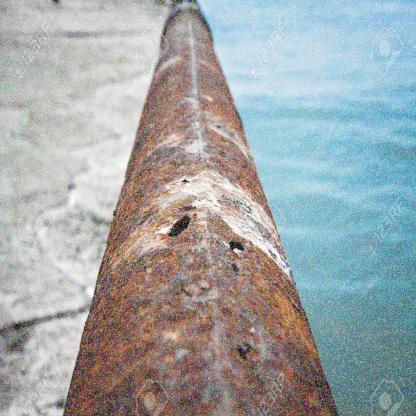burst: (163, 203, 265, 273)
